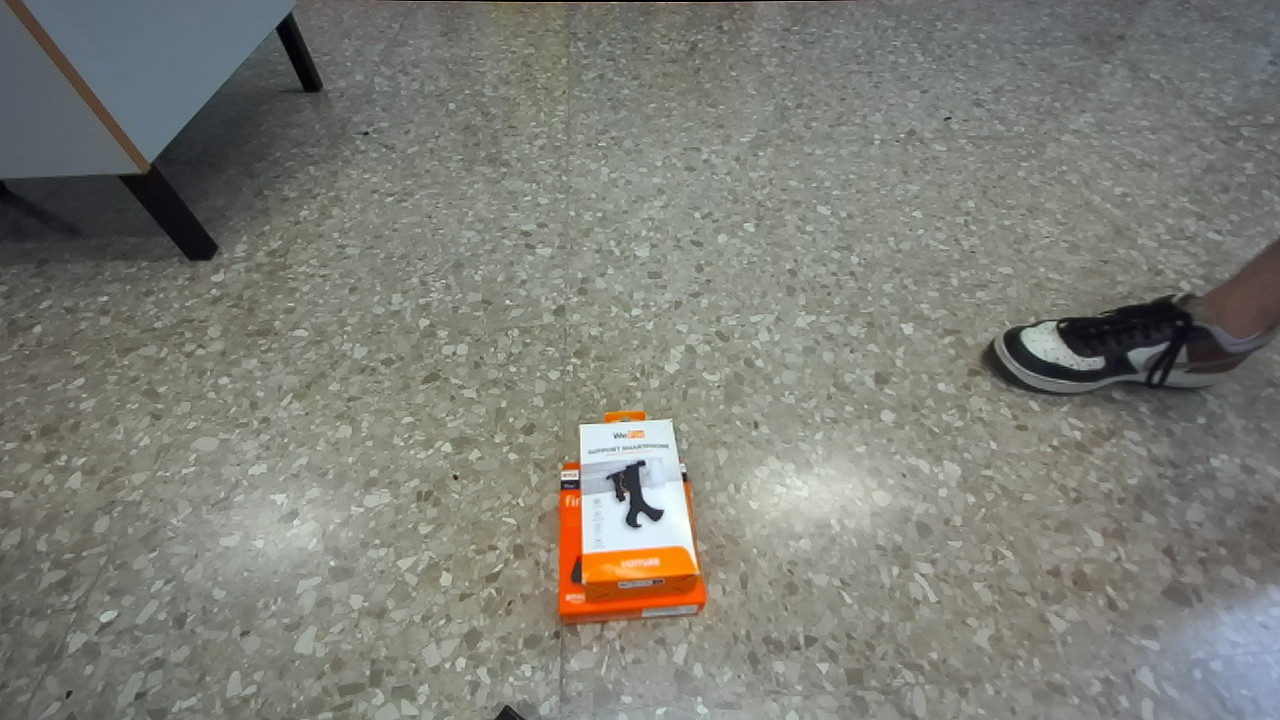caja_manguera: (559, 462, 706, 624)
caja_pcb: (580, 410, 700, 601)
